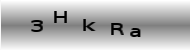3: (30, 19, 44, 33)
H: (52, 10, 69, 24)
R: (109, 21, 125, 36)
a: (129, 26, 142, 38)
k: (81, 17, 97, 32)
